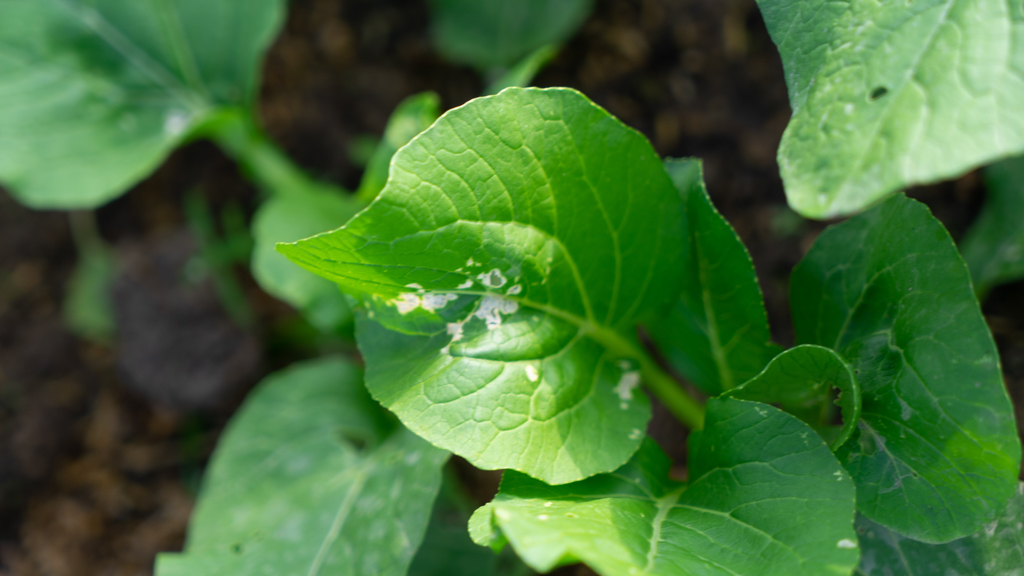Canker: (380, 264, 530, 356), (519, 350, 642, 409)
